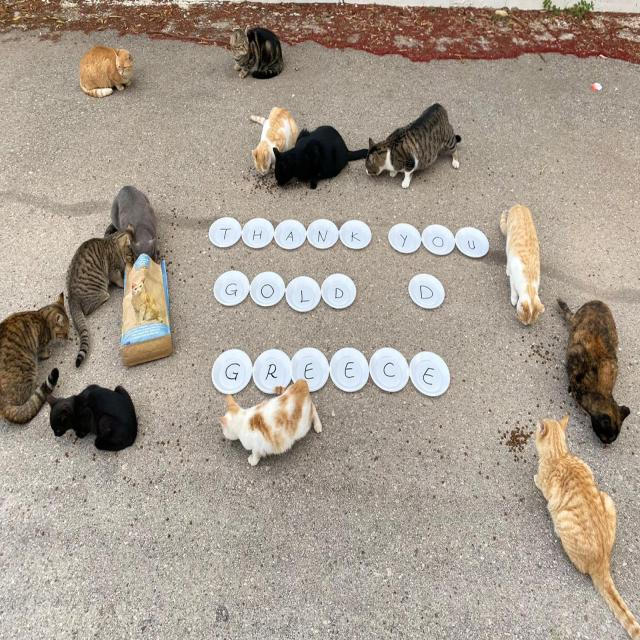cat: (534, 416, 640, 640), (558, 298, 630, 443), (66, 224, 134, 366), (0, 293, 71, 423), (219, 380, 321, 466), (365, 103, 461, 188), (48, 384, 138, 451), (274, 125, 369, 188), (500, 205, 544, 325), (110, 186, 158, 262), (251, 106, 299, 175), (230, 25, 282, 78), (79, 46, 132, 97)
